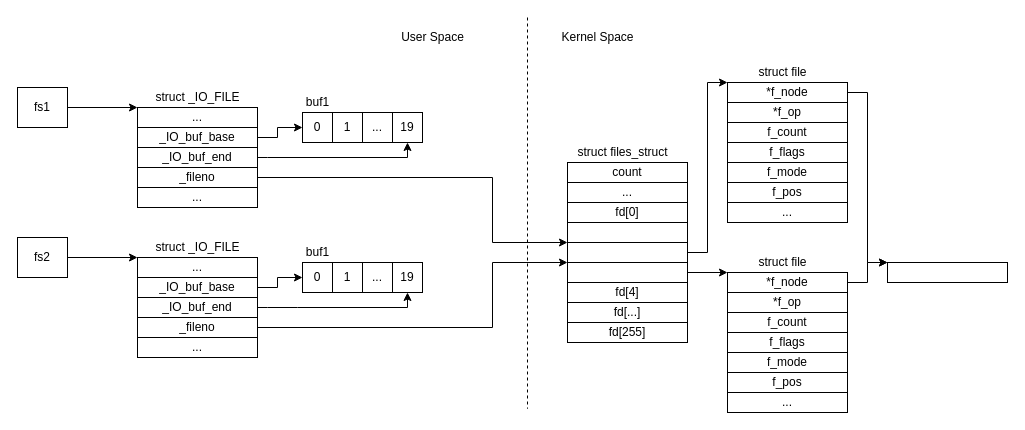
This 1025x430 diagram has some shape labels left out. Each missing label, with the box of its shape:
fd[1]: (566, 222, 688, 242)
fd[2]: (566, 242, 688, 262)
fd[3]: (566, 262, 688, 282)
struct inode: (886, 262, 1008, 282)
